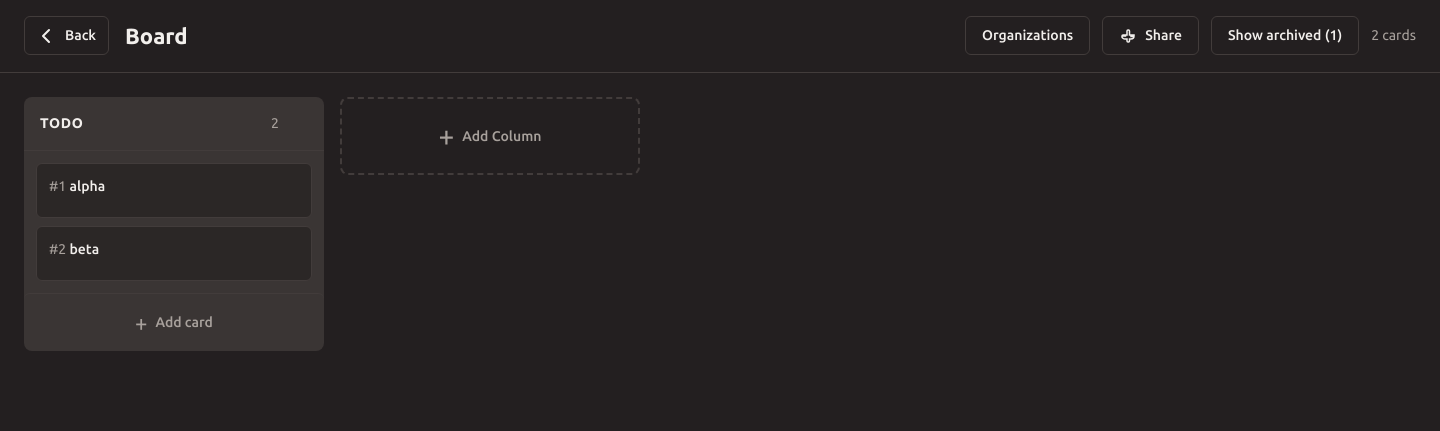
Scenario: archiving a card › shows archived cards, marked, when asked
Click the button "Show archived (1)" at {"x": 1285, "y": 36}, box [1211, 16, 1359, 55]
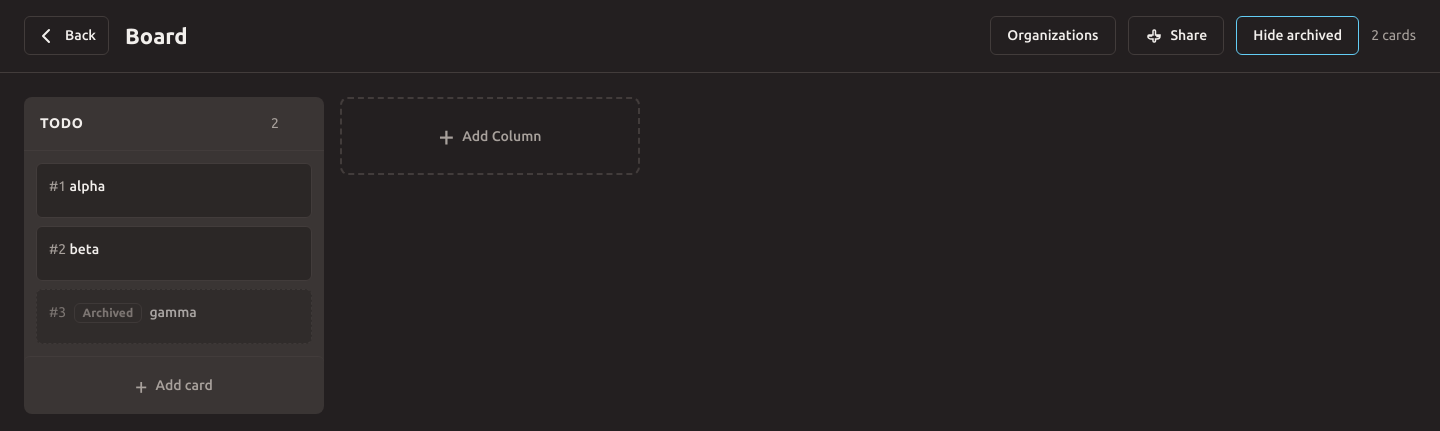
Expected: the text "2 cards" is shown, [1371, 25, 1416, 46]
Now the button "#3 Archived gamma" is shown, box [36, 289, 312, 344]
Now the button "Hide archived" is shown, box [1236, 16, 1359, 55]
